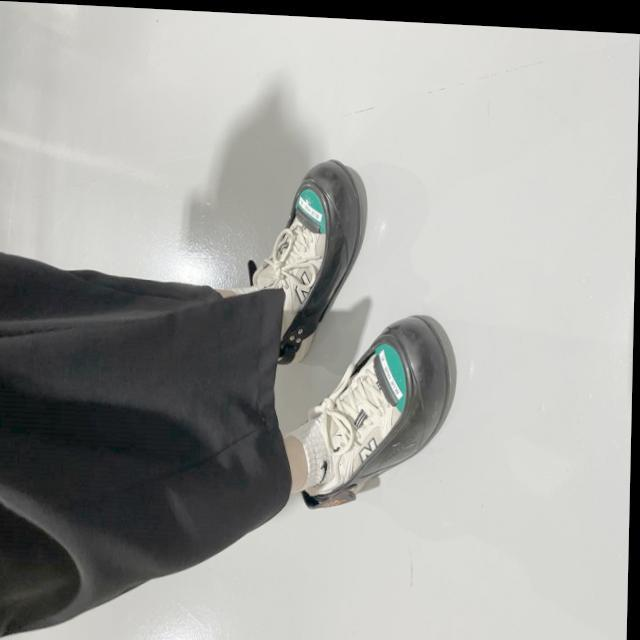shoes: (294, 304, 466, 512), (236, 152, 376, 373)
